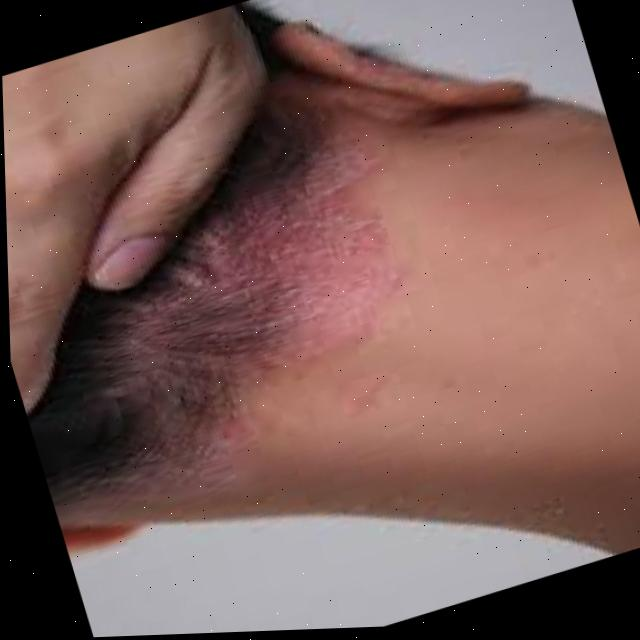Eczema: (168, 125, 461, 428)
